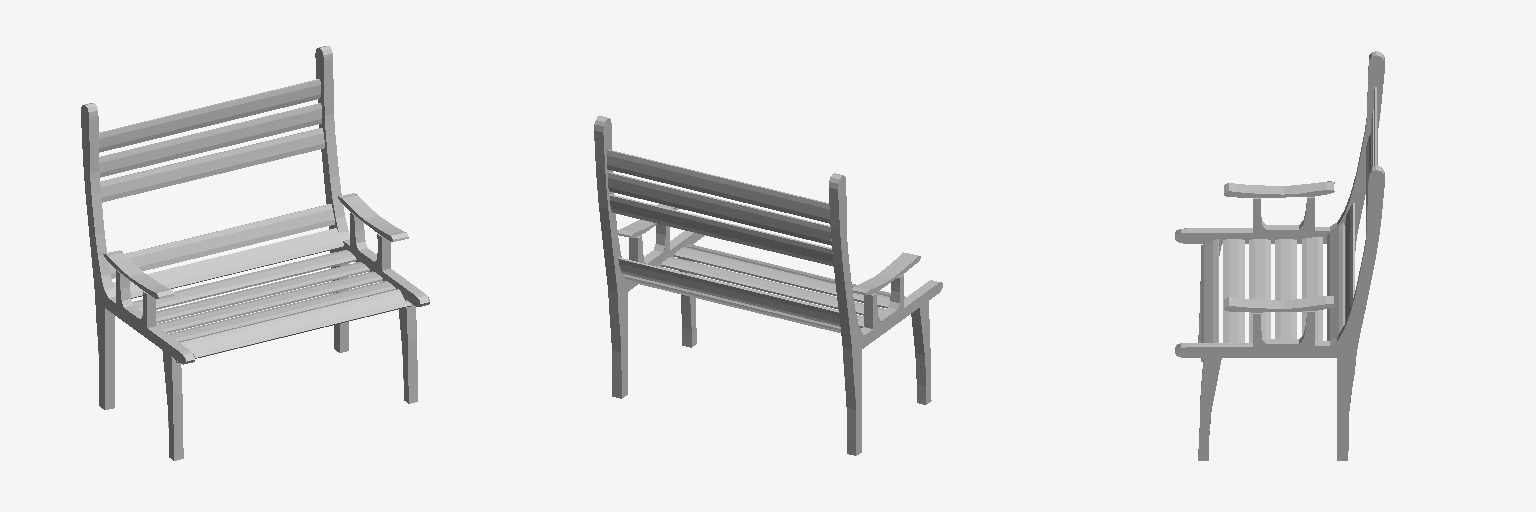
File: Bench.obj
The picture shows the model from 3 angles: view 1: azimuth 30°, elevation 25°; view 2: azimuth 150°, elevation 25°; view 3: azimuth 270°, elevation 25°; orthographic projection.
Parts seen in each view (by area): view 1: chair_plank1, _Free_Form_81, _Free_Form_83, _Free_Form_71; view 2: chair_plank1, _Free_Form_81, _Free_Form_83, _Free_Form_71; view 3: chair_plank1, _Free_Form_82, _Free_Form_81, _Free_Form_71, _Free_Form_72.
Part boxes in pixels (bbox=[...]): chair_plank1: bbox=[99, 79, 410, 362]; _Free_Form_81: bbox=[85, 46, 429, 460]; _Free_Form_83: bbox=[81, 48, 420, 460]; _Free_Form_71: bbox=[104, 193, 408, 298]; chair_plank1: bbox=[607, 149, 905, 334]; _Free_Form_81: bbox=[594, 116, 939, 455]; _Free_Form_83: bbox=[603, 118, 942, 455]; _Free_Form_71: bbox=[618, 204, 917, 294]; chair_plank1: bbox=[1201, 87, 1377, 359]; _Free_Form_82: bbox=[1175, 55, 1384, 460]; _Free_Form_81: bbox=[1175, 51, 1384, 453]; _Free_Form_71: bbox=[1224, 182, 1333, 308]; _Free_Form_72: bbox=[1224, 190, 1334, 312].
Size of the model in its own units: 8.16 by 9.05 by 5.94.